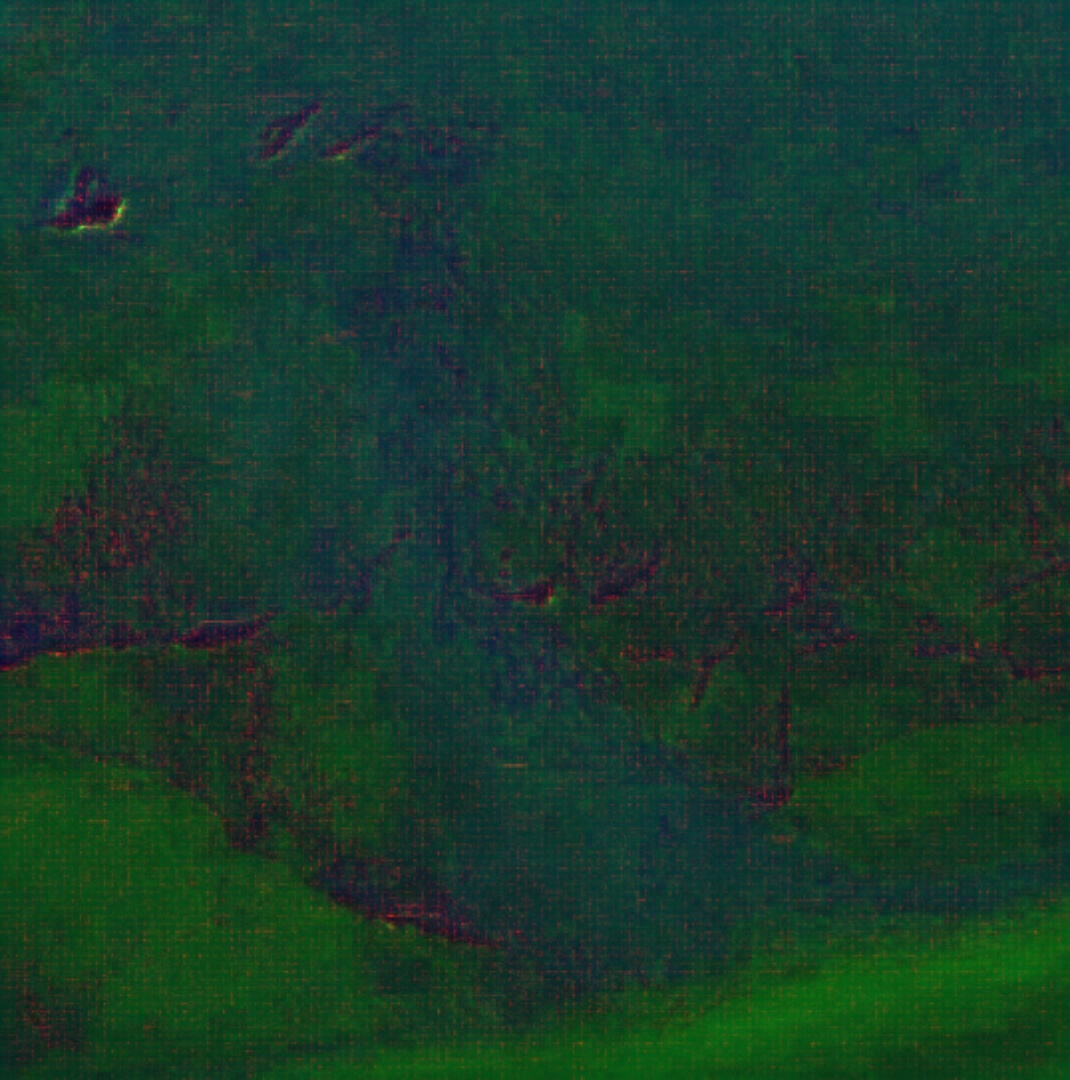rip_current: (126, 284, 801, 925)
